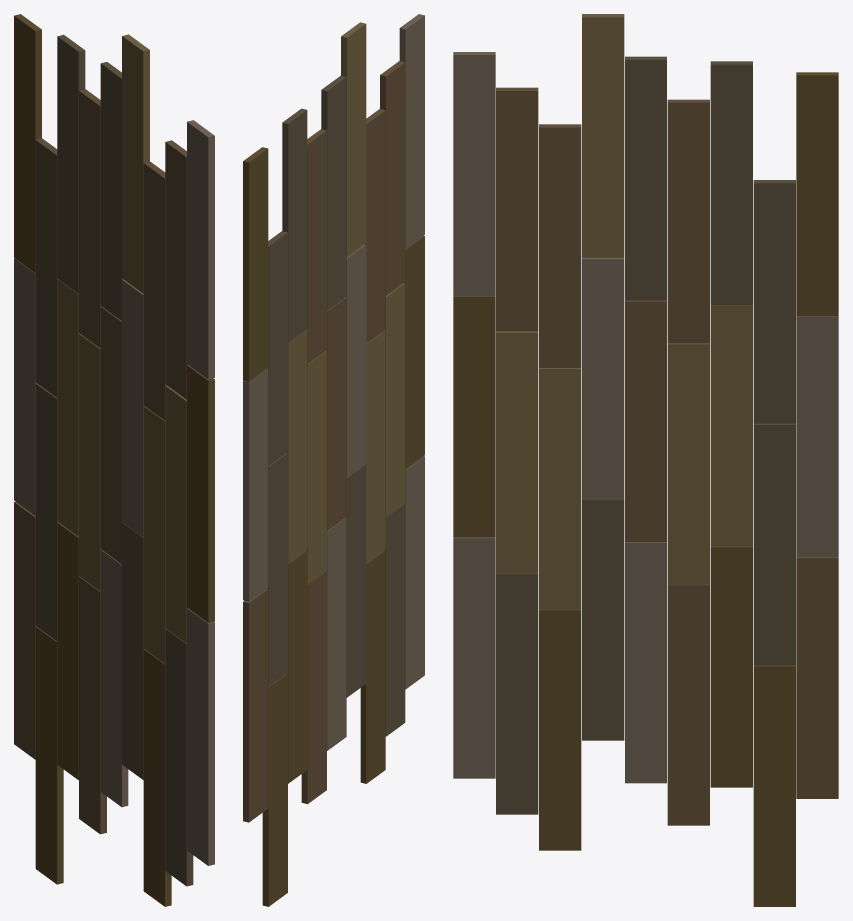
The model's file is WoodBackground.fbx.
The picture shows the model from 3 angles, left to right: view 1: azimuth 30°, elevation 25°; view 2: azimuth 150°, elevation 25°; view 3: azimuth 270°, elevation 25°; orthographic projection. The views are drawn at different scales.
Visible parts, largest first — view 1: pCube33; view 2: pCube33; view 3: pCube33.
Part boxes in pixels (x1,y1,x2,y2): pCube33: (14, 14, 214, 906); pCube33: (243, 14, 424, 906); pCube33: (453, 14, 838, 906).
Size of the model in its own units: 1.52 by 198 by 77.83.
